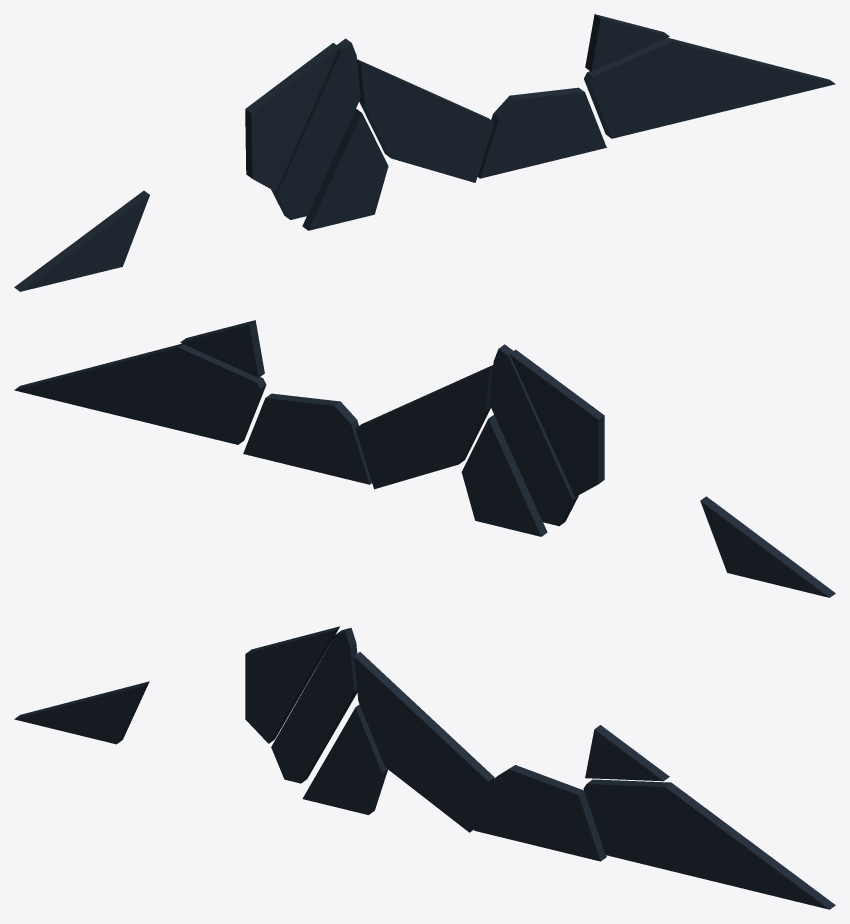
Rendered from Glass_Mosque_Drum_dst.fbx.
3 renders of one model, top to bottom at view 1: azimuth 30°, elevation 25°; view 2: azimuth 150°, elevation 25°; view 3: azimuth 330°, elevation 25°, orthographic.
Visible parts, largest first — view 1: Glass_Mosque_Drum_dst_LOD0; view 2: Glass_Mosque_Drum_dst_LOD0; view 3: Glass_Mosque_Drum_dst_LOD0.
Part boxes in pixels (box(x1,y1,x2,y2)): Glass_Mosque_Drum_dst_LOD0: box(14, 14, 835, 291); Glass_Mosque_Drum_dst_LOD0: box(14, 320, 835, 597); Glass_Mosque_Drum_dst_LOD0: box(14, 626, 835, 909).
Bounding box in the file's own units: 60.98 × 12.68 × 0.9303.
